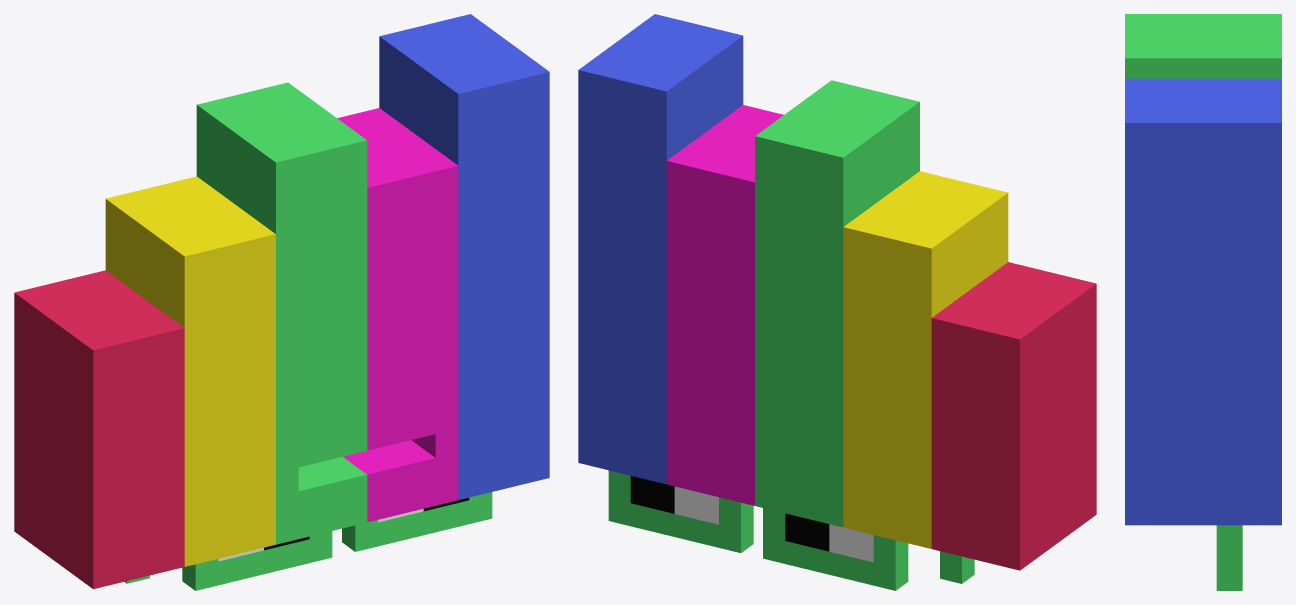
Rendered from chartbars.glb.
3 renders of one model, left to right at view 1: azimuth 30°, elevation 25°; view 2: azimuth 150°, elevation 25°; view 3: azimuth 270°, elevation 25°, orthographic. The views are drawn at different scales.
Visible parts, largest first — view 1: base, monture; view 2: base, monture, glass (1); view 3: base, monture.
Boxes of the visible parts, x1,y1,x2,y2 form: base: [14, 14, 549, 589]; monture: [124, 492, 492, 590]; base: [578, 14, 1096, 570]; monture: [608, 470, 974, 590]; glass (1): [630, 476, 873, 562]; base: [1125, 14, 1281, 525]; monture: [1216, 525, 1242, 590].
Size of the model in its own units: 20 by 20 by 6.
Materials: 10 (10 with a texture image).
